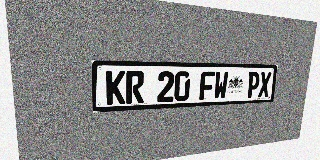0: (174, 71, 190, 102)
2: (157, 71, 174, 102)
F: (199, 71, 215, 100)
K: (106, 71, 125, 105)
P: (246, 72, 260, 98)
R: (126, 71, 144, 104)
W: (213, 71, 229, 100)
X: (258, 72, 271, 97)
